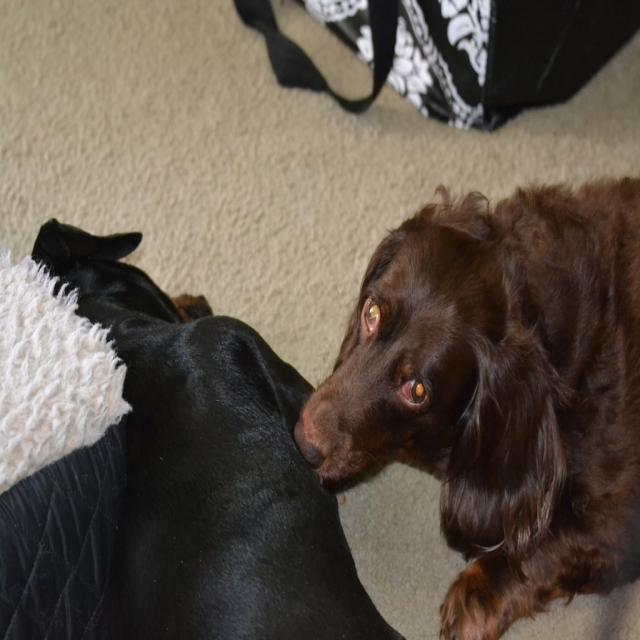Dog: (291, 173, 639, 638), (30, 213, 408, 638)
